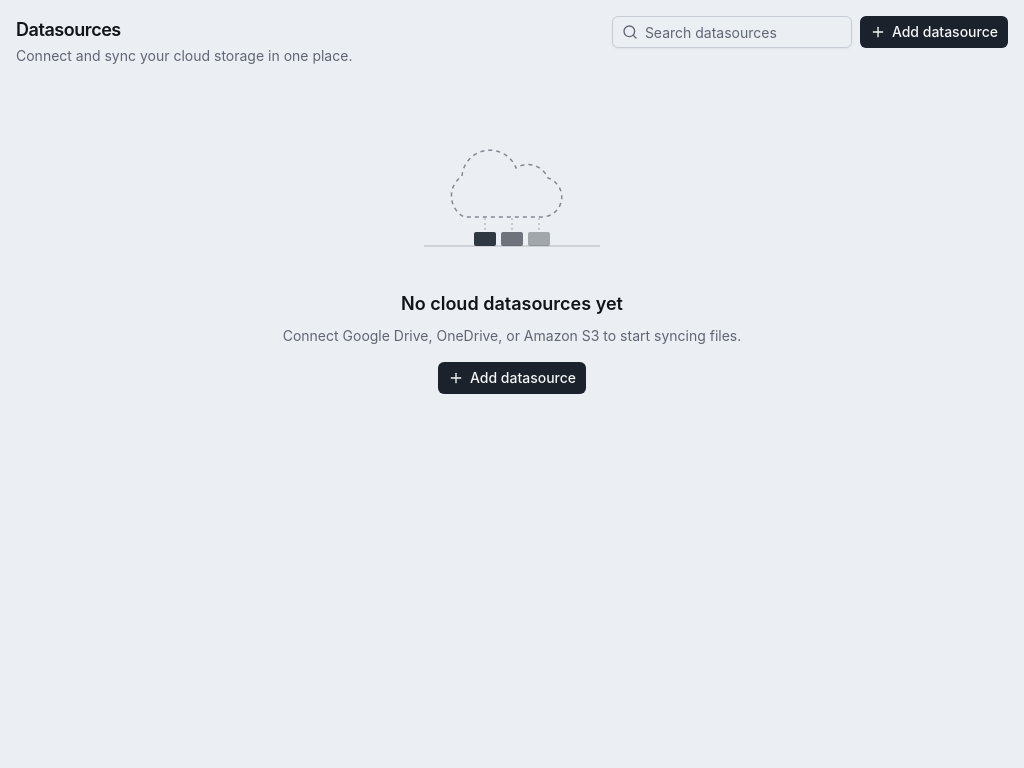
Scenario: AddDatasourceDialog › closing the dialog via Escape does NOT call datasources.add
This screenshot has width=1024, height=768.
expect the element with test id "datasources-empty" is shown: met, box top-left (283, 114), bottom-right (741, 394)
Click the button with test id "add-datasource-trigger". click: (934, 32)
box: top-left (860, 16), bottom-right (1008, 48)
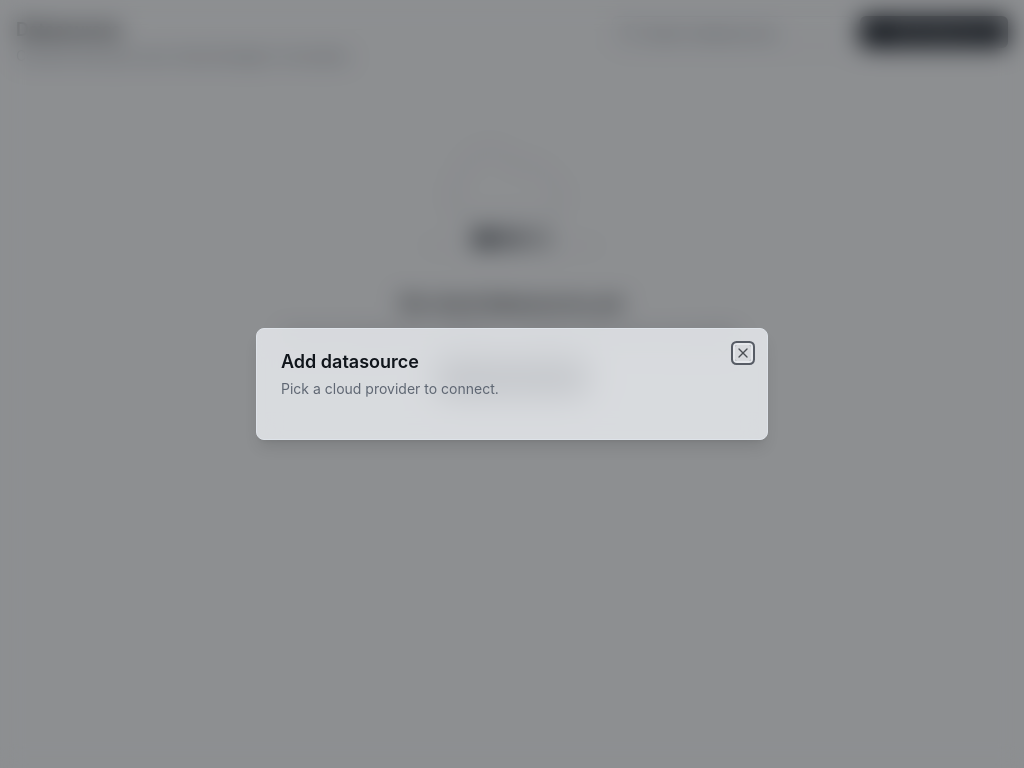
Press Escape in the dialog "Add datasource Pick a cloud provider to connect.", box top-left (256, 328), bottom-right (768, 440)
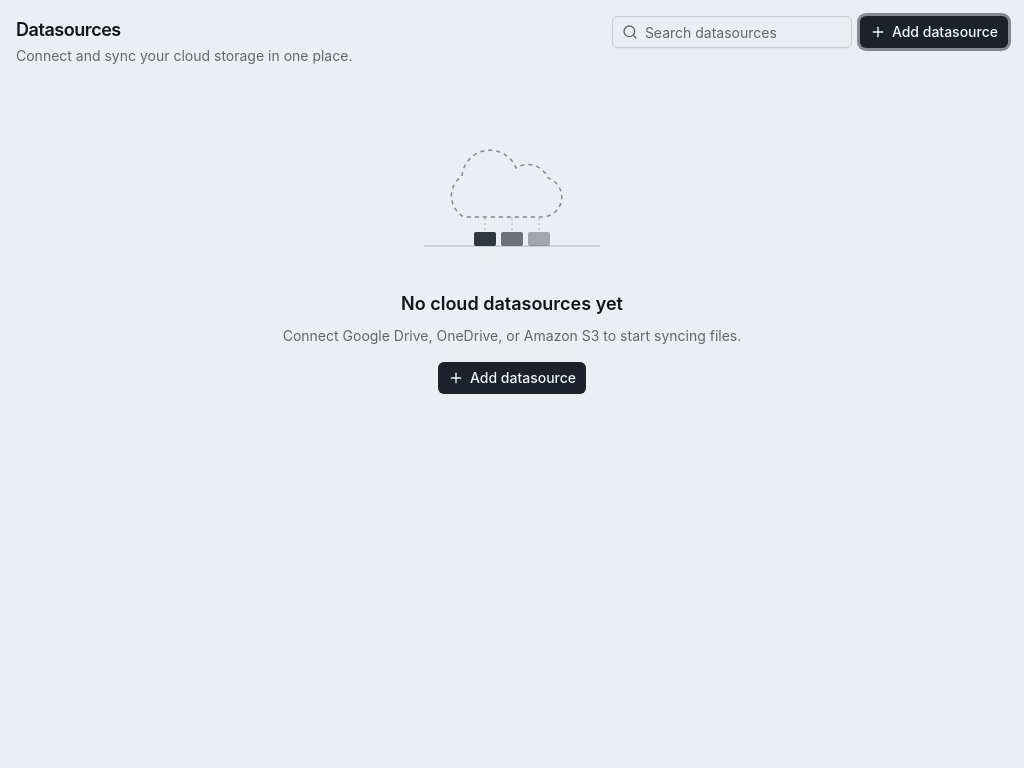
expect the dialog is gone: met
